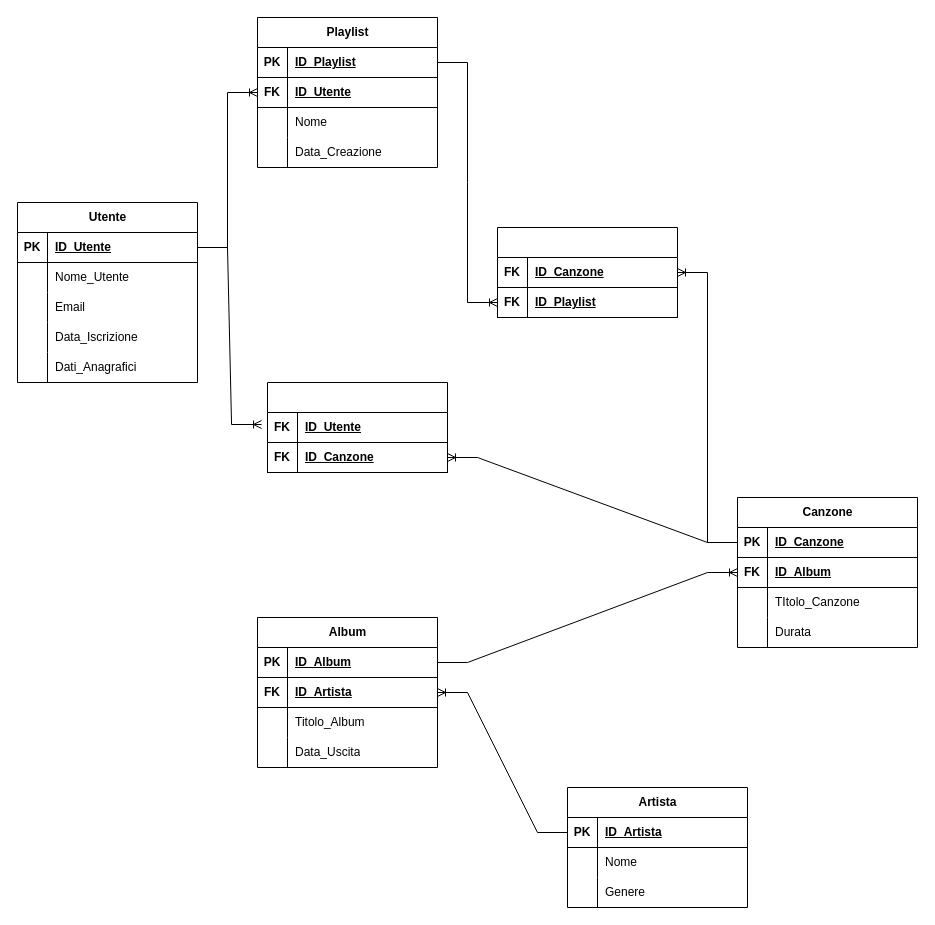
Image size: 935x925. Some labels were removed from this diagram. The shapes that lost their labels are listed below. From the top down, each one's box as (x1, y1, x2, y2) in pixels, then its label:
(496, 226, 678, 318): CanzonePlaylist
(266, 382, 448, 472): Ascolti
